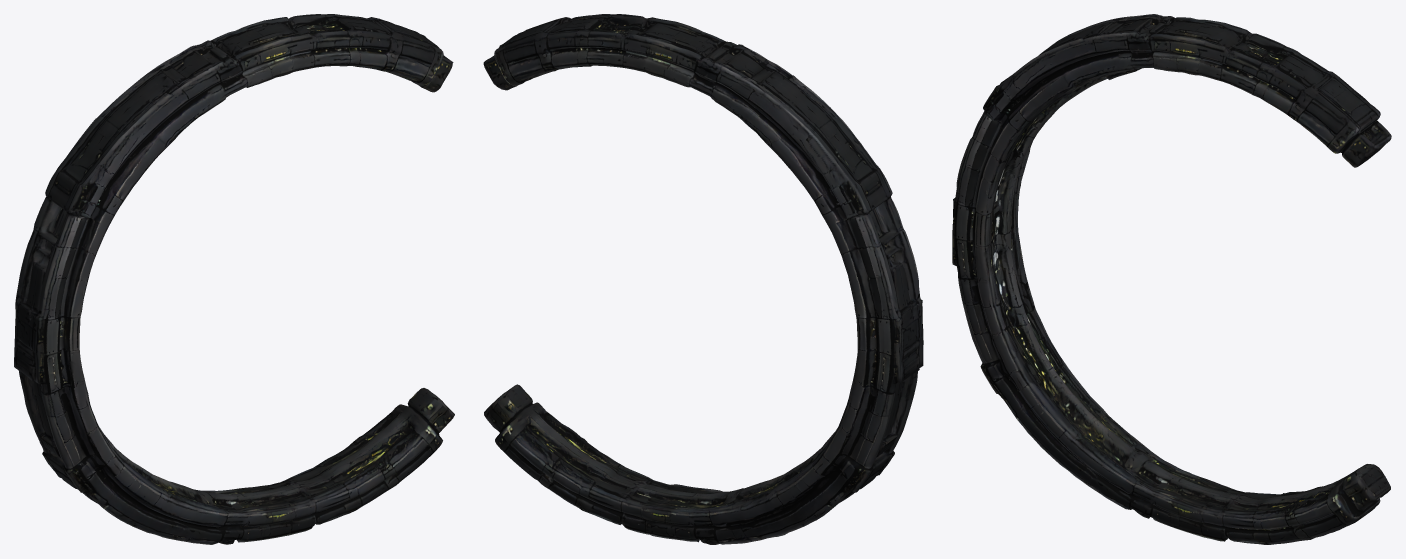
File: base_basic_pbr.glb
The picture shows the model from 3 angles, left to right: view 1: azimuth 30°, elevation 25°; view 2: azimuth 150°, elevation 25°; view 3: azimuth 330°, elevation 25°; orthographic projection.
Visible parts, largest first — view 1: model; view 2: model; view 3: model.
Part boxes in pixels (x1,y1,x2,y2): model: (14,14,454,544); model: (483,14,923,544); model: (952,14,1391,544).
Bounding box in the file's own units: 1.68 × 1.9 × 0.249.
1 material, 1 textured.
